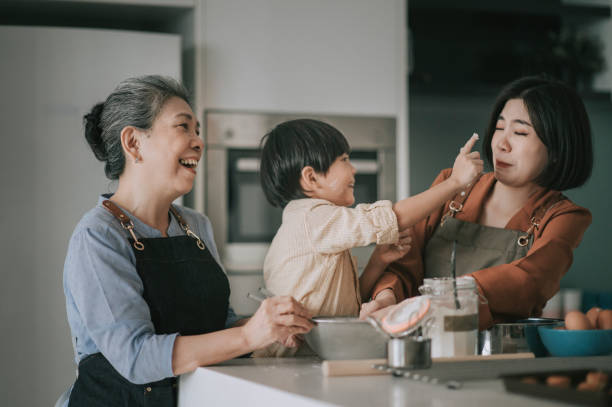without mask: (479, 91, 554, 186), (137, 102, 212, 197), (313, 144, 361, 209)
